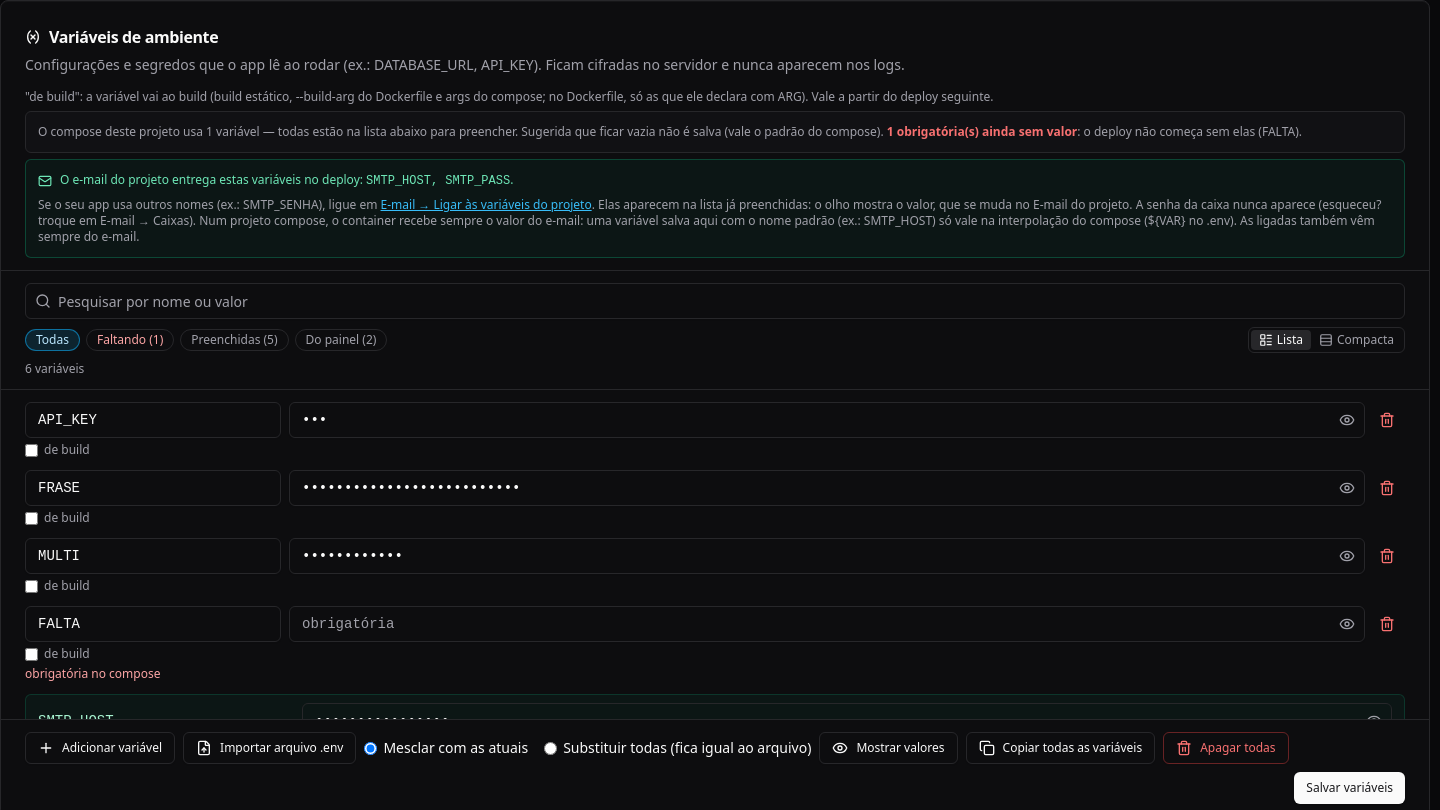
Test case: Copiar todas as variáveis › desabilitado com lista vazia
The width and height of the screenshot is (1440, 810).
Check: the password field showing "abc" is shown, box [289,402,1365,438]
Step 1. Type "zzzz" into the search field named "Pesquisar variáveis" → x=715, y=301, box [25,283,1405,319]
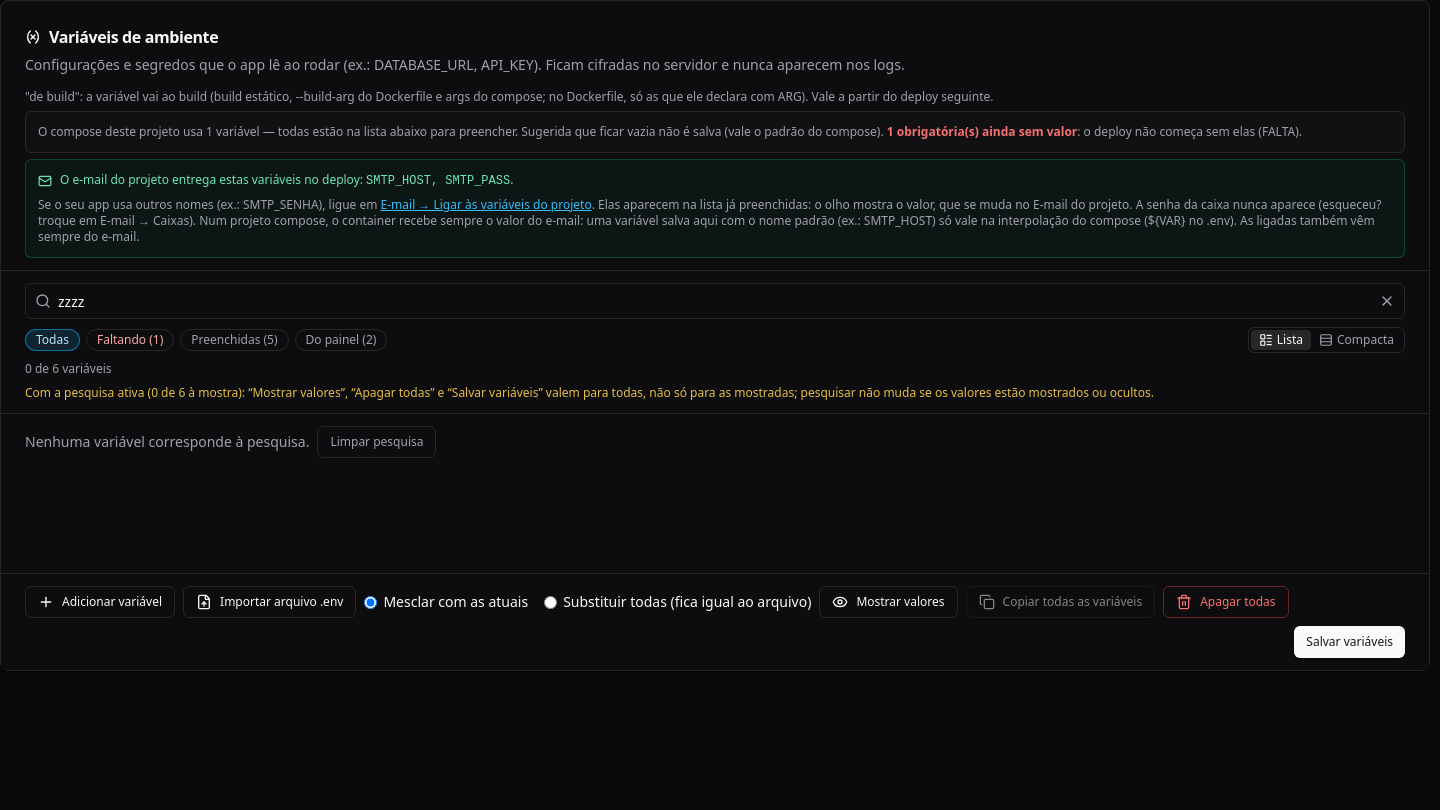
Check: the button "Copiar todas as variáveis" is disabled, box [966,586,1155,618]
